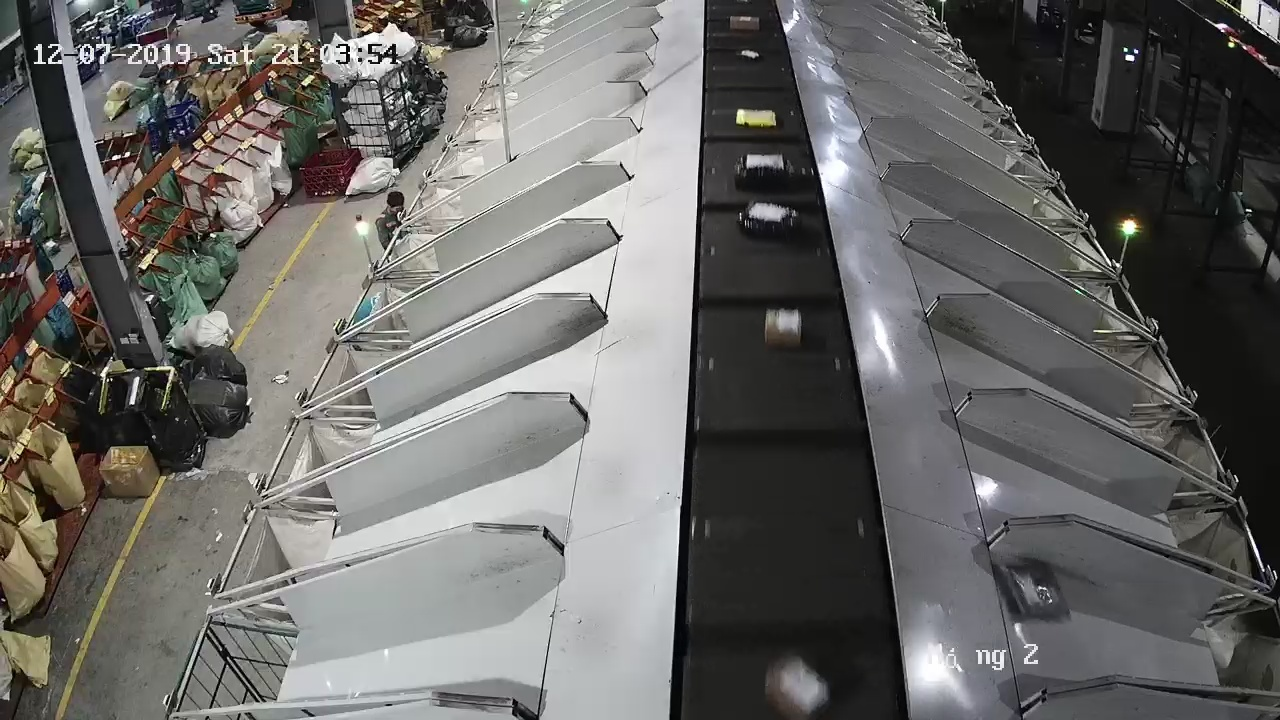parcel: (991, 560, 1073, 623)
